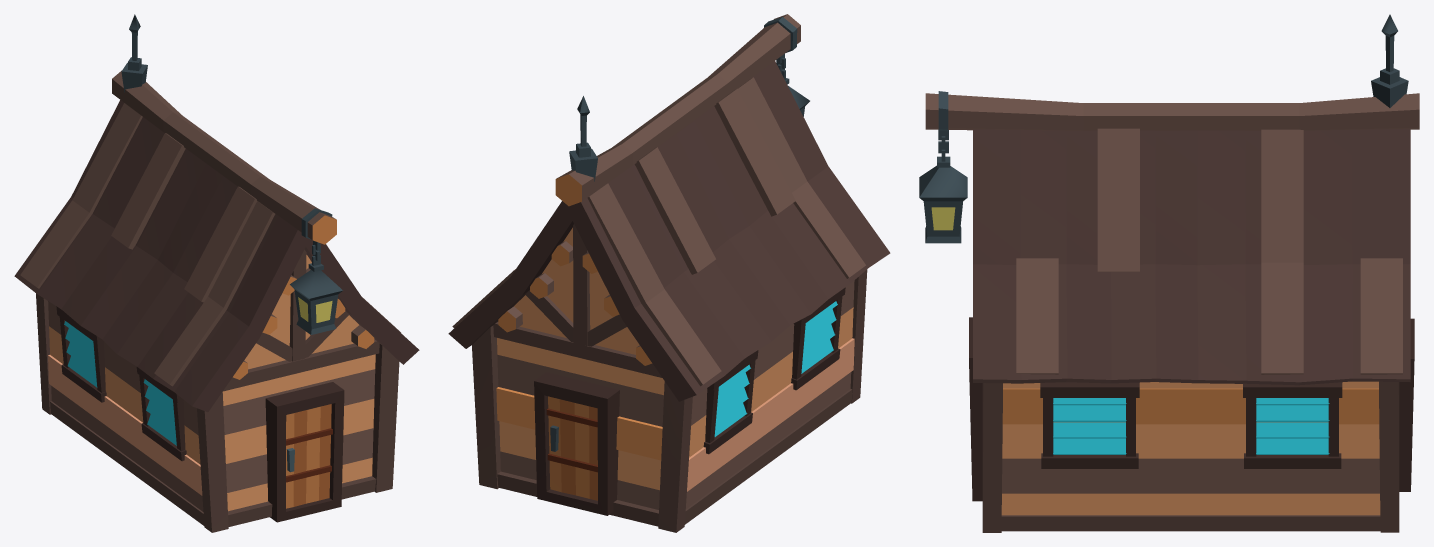
File: House_2-2.fbx
3 renders of one model, left to right at view 1: azimuth 30°, elevation 25°; view 2: azimuth 150°, elevation 25°; view 3: azimuth 270°, elevation 25°, orthographic. The views are drawn at different scales.
Parts seen in each view (by area): view 1: Village_BG_Bd_Warehouse01_A.001; view 2: Village_BG_Bd_Warehouse01_A.001; view 3: Village_BG_Bd_Warehouse01_A.001.
Boxes of the visible parts, <box> form: Village_BG_Bd_Warehouse01_A.001: <box>14,14,419,532</box>; Village_BG_Bd_Warehouse01_A.001: <box>448,14,890,532</box>; Village_BG_Bd_Warehouse01_A.001: <box>919,14,1419,532</box>.
Size of the model in its own units: 414 by 649 by 633.
